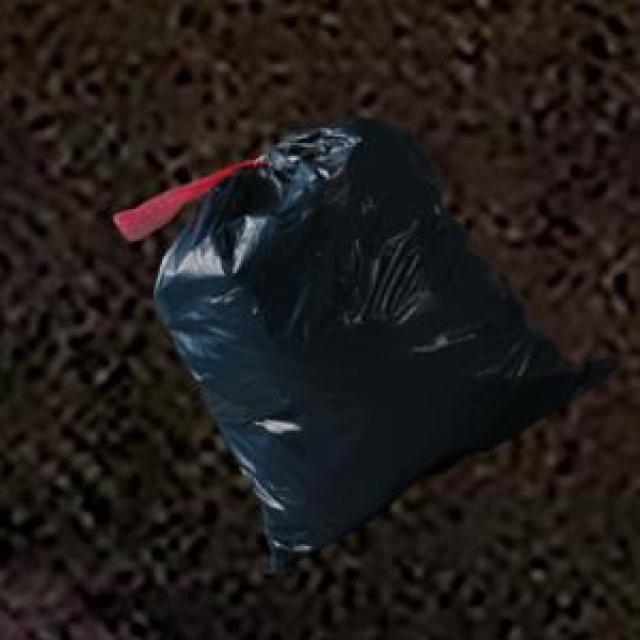waste: (115, 120, 612, 569)
